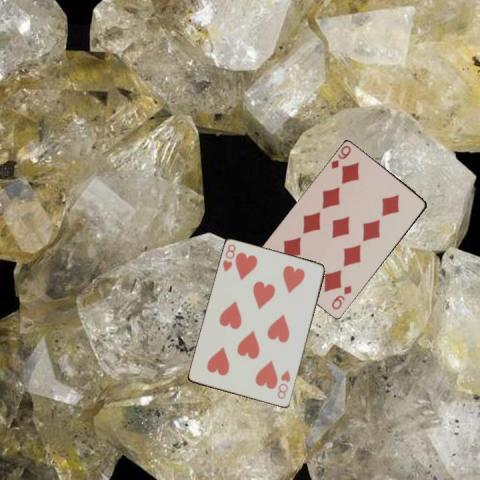8h: (275, 367, 292, 401), (220, 242, 237, 274)
9d: (328, 142, 353, 171), (328, 283, 353, 311)
